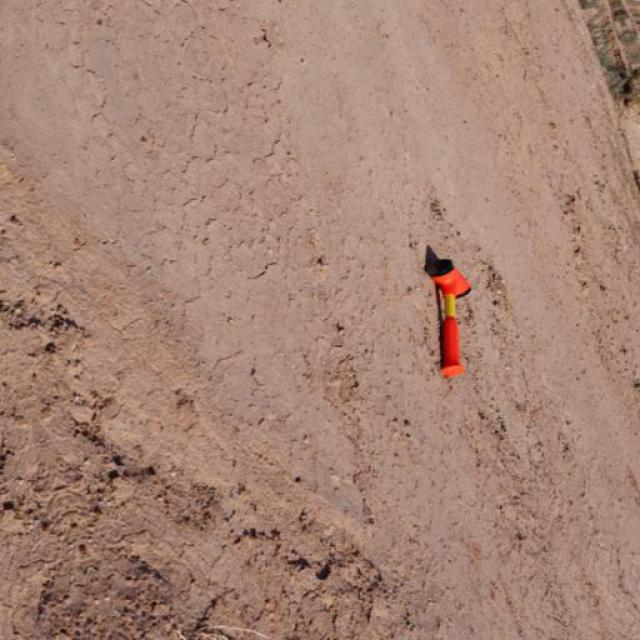mallet: (421, 244, 471, 378)
